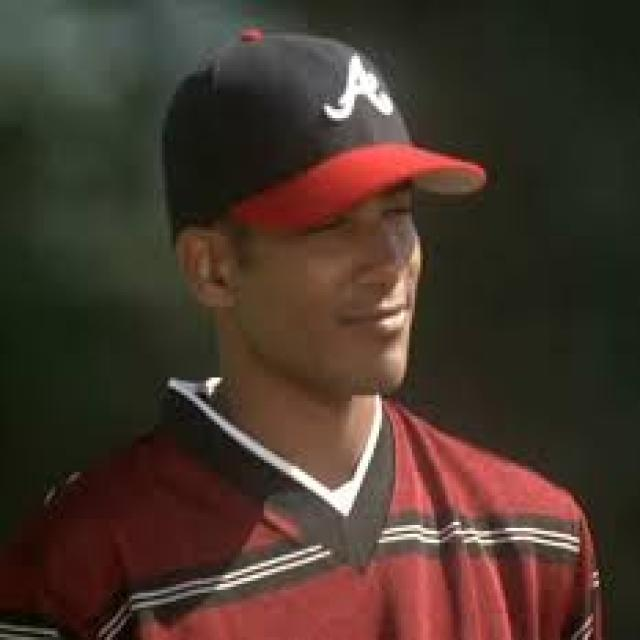3_gorra: (159, 23, 488, 236)
